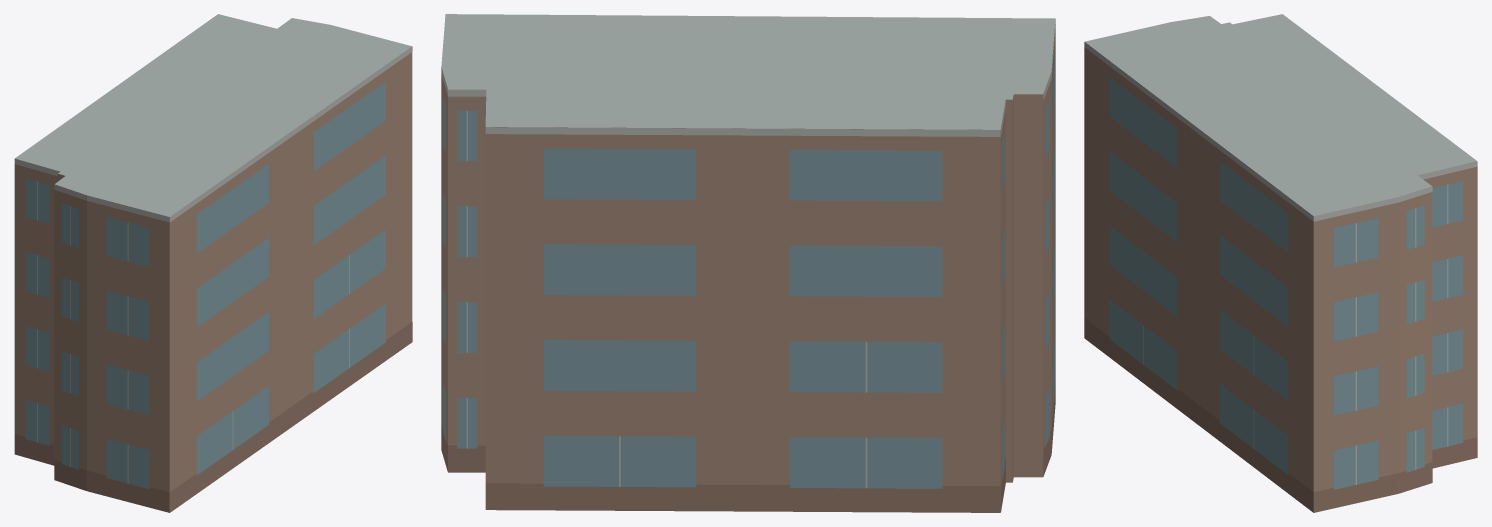
The model's file is survey-upis-32755276.glb.
The picture shows the model from 3 angles, left to right: view 1: azimuth 30°, elevation 25°; view 2: azimuth 150°, elevation 25°; view 3: azimuth 270°, elevation 25°; orthographic projection. The views are drawn at different scales.
Parts seen in each view (by area): view 1: survey-upis-32755276.tmp; view 2: survey-upis-32755276.tmp; view 3: survey-upis-32755276.tmp.
Part boxes in pixels (<box>): survey-upis-32755276.tmp: <box>14,14,412,512</box>; survey-upis-32755276.tmp: <box>441,14,1055,512</box>; survey-upis-32755276.tmp: <box>1084,14,1477,512</box>.
Size of the model in its own units: 19.39 by 13.25 by 15.92.
